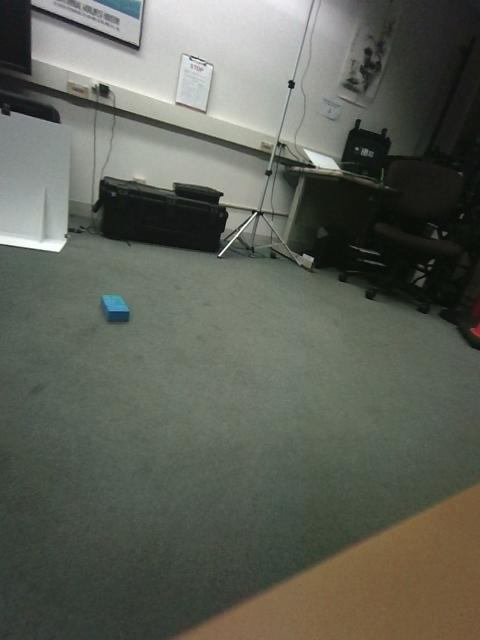block: (126, 397, 216, 453)
